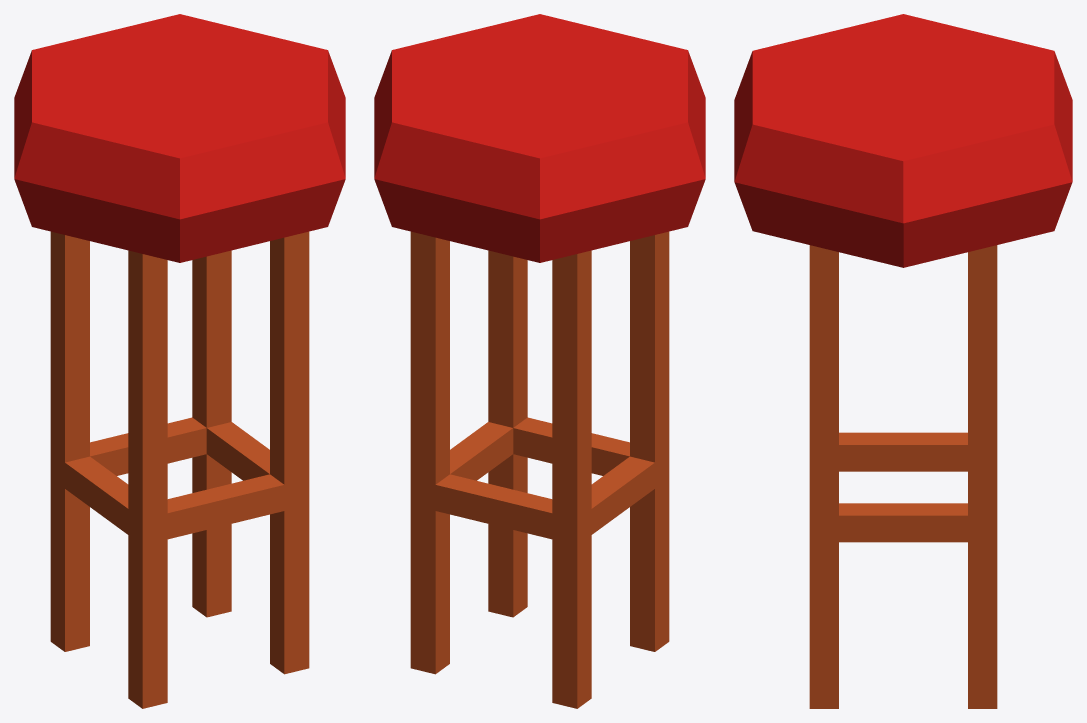
The picture shows the model from 3 angles, left to right: view 1: azimuth 30°, elevation 25°; view 2: azimuth 150°, elevation 25°; view 3: azimuth 270°, elevation 25°; orthographic projection.
Parts seen in each view (by area): view 1: stoolBar; view 2: stoolBar; view 3: stoolBar.
Part boxes in pixels (x1,y1,x2,y2): stoolBar: (14, 14, 345, 708); stoolBar: (374, 14, 705, 708); stoolBar: (734, 14, 1072, 708).
Bounding box in the file's own units: 0.2654 × 0.435 × 0.2299.
